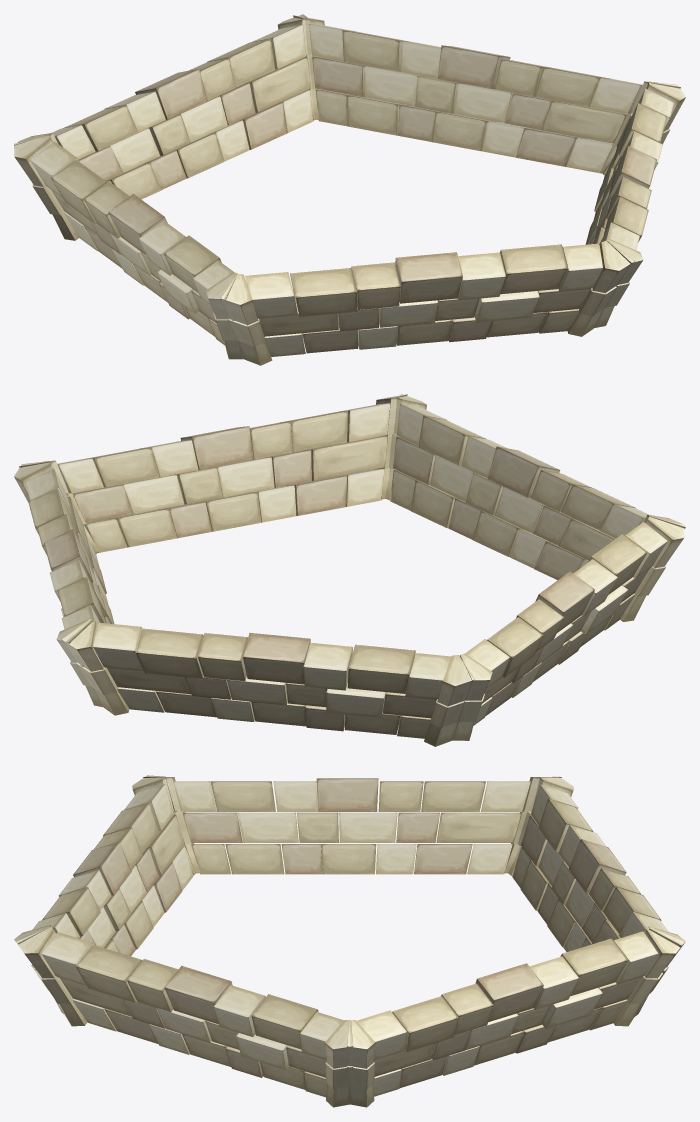
File: arena-mur4.FBX
3 views of the same model, one above another, from view 1: azimuth 30°, elevation 25°; view 2: azimuth 150°, elevation 25°; view 3: azimuth 270°, elevation 25° (orthographic).
Parts seen in each view (by area): view 1: Box104, Box105, Box106, Box103, Box107; view 2: Box106, Box107, Box104, Box103, Box105; view 3: Box103, Box105, Box107, Box104, Box106.
Boxes of the visible parts, x1,y1,x2,y2 form: Box104: (220,240,634,365); Box105: (293,15,680,173); Box106: (14,14,315,199); Box103: (14,135,242,359); Box107: (585,82,685,327); Box106: (61,619,474,746); Box107: (19,394,407,552); Box104: (385,394,685,579); Box103: (452,516,684,740); Box105: (14,461,114,706); Box103: (143,777,561,874); Box105: (347,926,684,1107); Box107: (15,926,353,1107); Box104: (14,775,195,1013); Box106: (508,776,685,1017).
Size of the model in its own units: 3.32 by 0.5376 by 3.45.
Materials: 5 (5 with a texture image).
